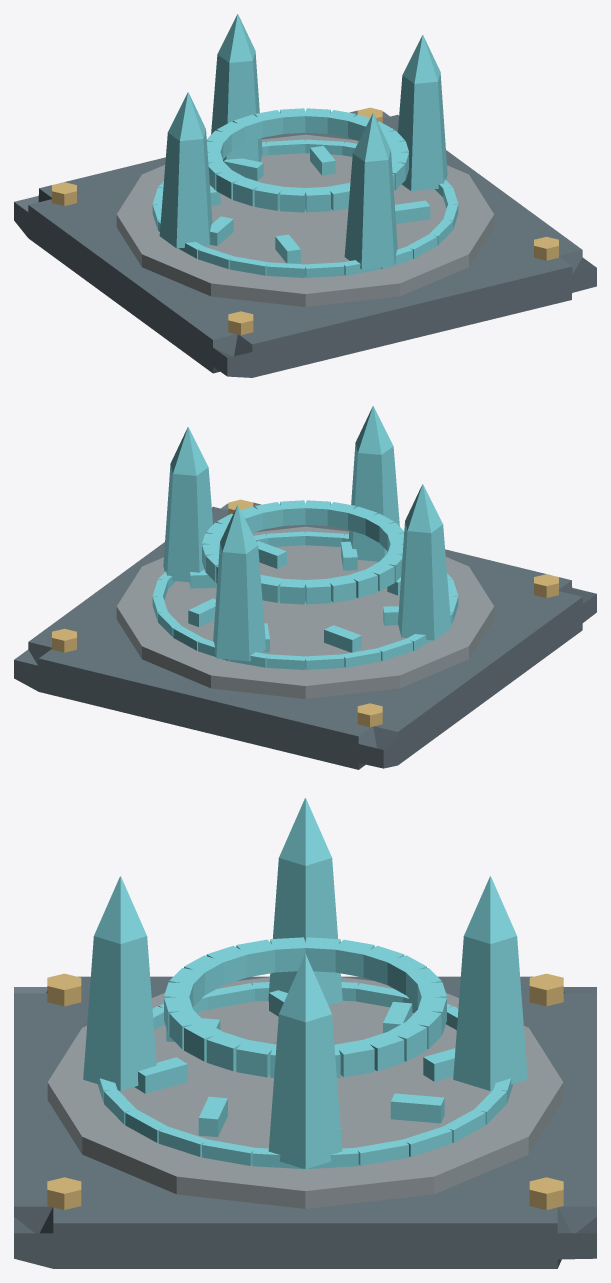
The model's file is TrapWarp.fbx.
The picture shows the model from 3 angles, top to bottom: view 1: azimuth 30°, elevation 25°; view 2: azimuth 150°, elevation 25°; view 3: azimuth 270°, elevation 25°; orthographic projection. The views are drawn at different scales.
Parts seen in each view (by area): view 1: TrapWarp.002; view 2: TrapWarp.002; view 3: TrapWarp.002.
Part boxes in pixels (x1,y1,x2,y2): TrapWarp.002: [14, 14, 596, 377]; TrapWarp.002: [14, 406, 596, 769]; TrapWarp.002: [14, 798, 596, 1268].
Size of the model in its own units: 104 by 53 by 104.
